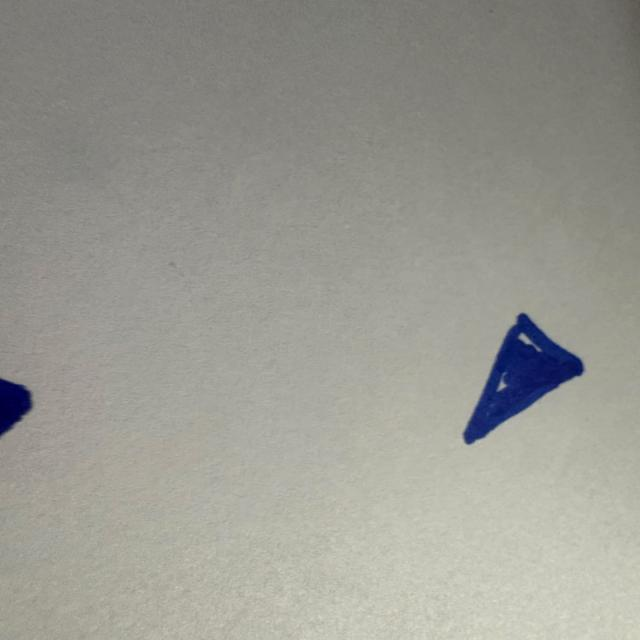Triangle: (463, 314, 583, 444)
